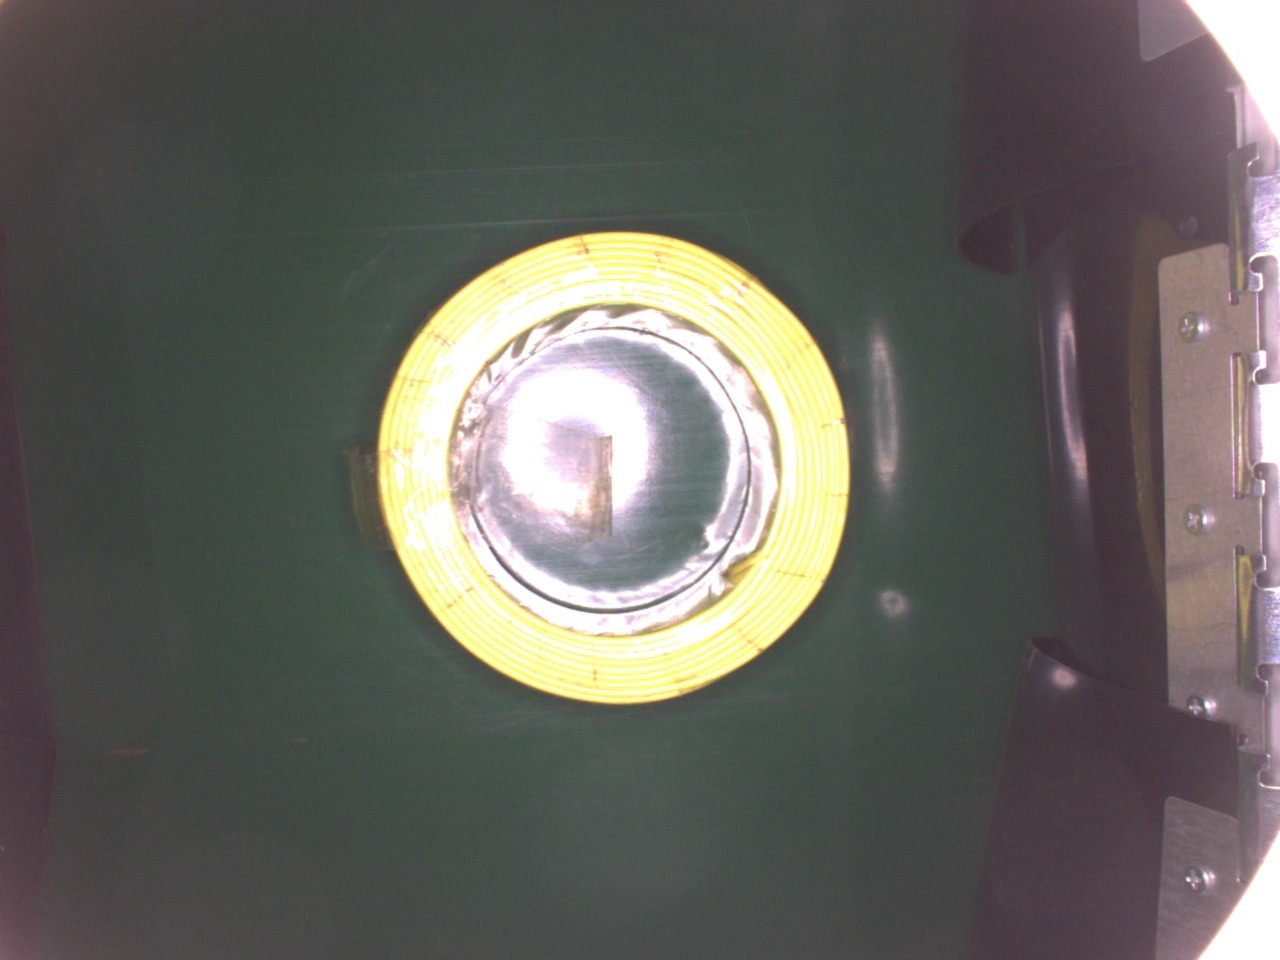yellow: (375, 223, 846, 709)
